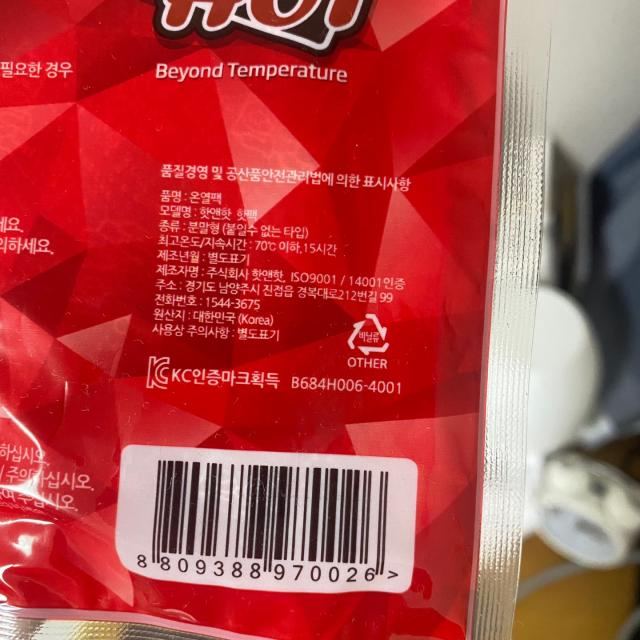Vinyl: (345, 310, 390, 357)
